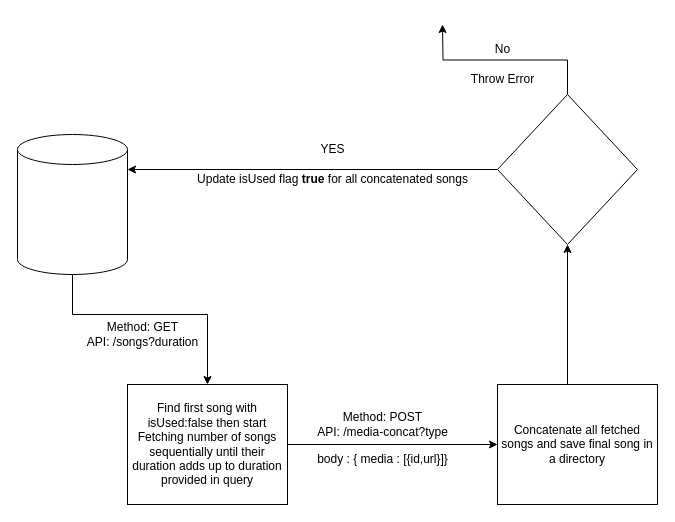
Image size: 675x522. Some labels were removed from this diagram. The centre of each missing label's shape, as x and y in pixels:
"Is concatenation successful as a whole" belongs at pixel 567 169.
"Song DB" belongs at pixel 72 204.
